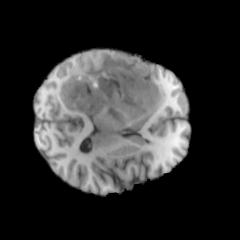glioma: (55, 51, 165, 125)
